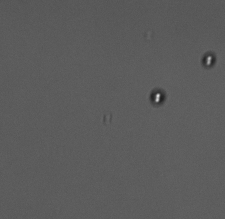Living Cell: (150, 85, 166, 106), (200, 51, 217, 68)
